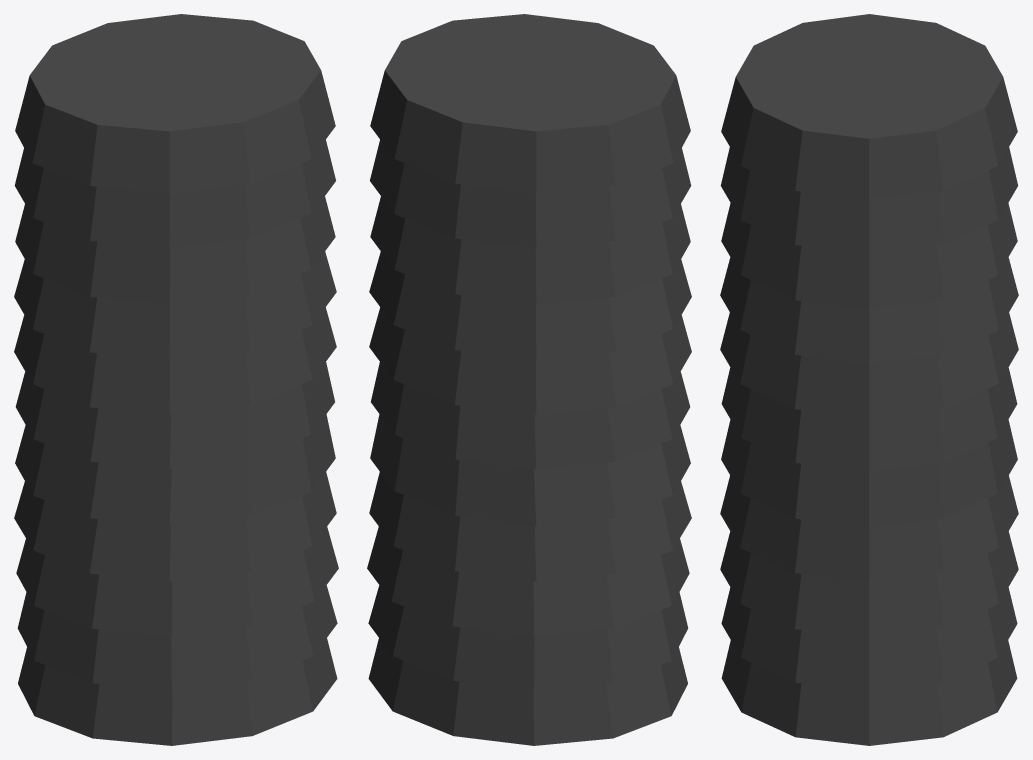
File: Body_1.fbx
The picture shows the model from 3 angles, left to right: view 1: azimuth 30°, elevation 25°; view 2: azimuth 150°, elevation 25°; view 3: azimuth 270°, elevation 25°; orthographic projection.
Visible parts, largest first — view 1: Body_1; view 2: Body_1; view 3: Body_1.
Boxes of the visible parts, x1,y1,x2,y2 form: Body_1: (14, 14, 338, 745); Body_1: (367, 14, 691, 745); Body_1: (720, 14, 1018, 745).
Size of the model in its own units: 74.39 by 152 by 68.37.
